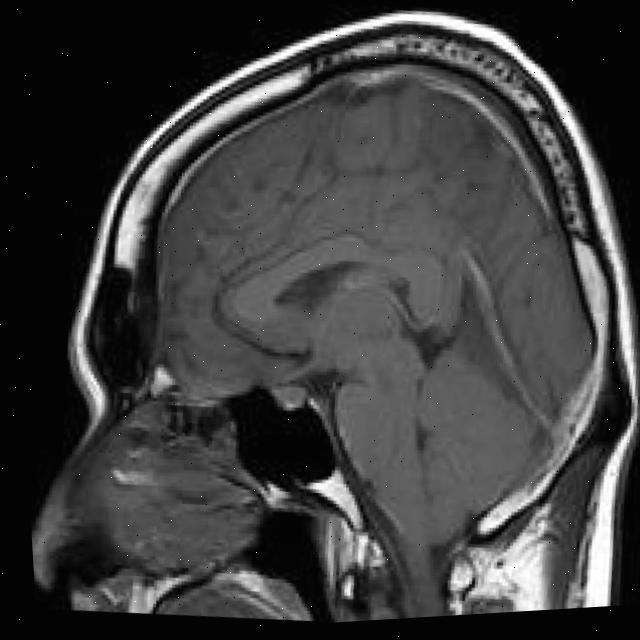NoTumor: (29, 0, 640, 577)
